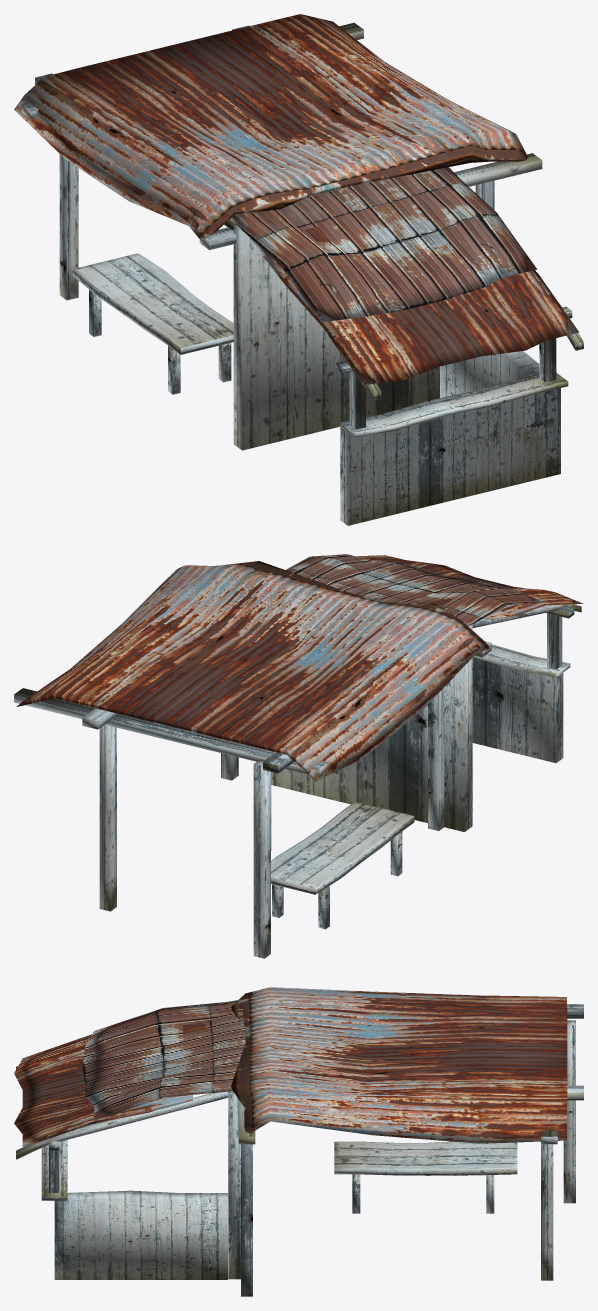
File: shanty3.fbx
3 views of the same model, one above another, from view 1: azimuth 30°, elevation 25°; view 2: azimuth 150°, elevation 25°; view 3: azimuth 270°, elevation 25° (orthographic). The views are drawn at different scales.
Parts seen in each view (by area): view 1: U3DMesh; view 2: U3DMesh; view 3: U3DMesh.
Boxes of the visible parts, box(x1,y1,x2,y2) form: U3DMesh: box(14, 14, 583, 525); U3DMesh: box(14, 554, 583, 958); U3DMesh: box(14, 987, 583, 1296).
Size of the model in its own units: 137 by 94.57 by 236.
